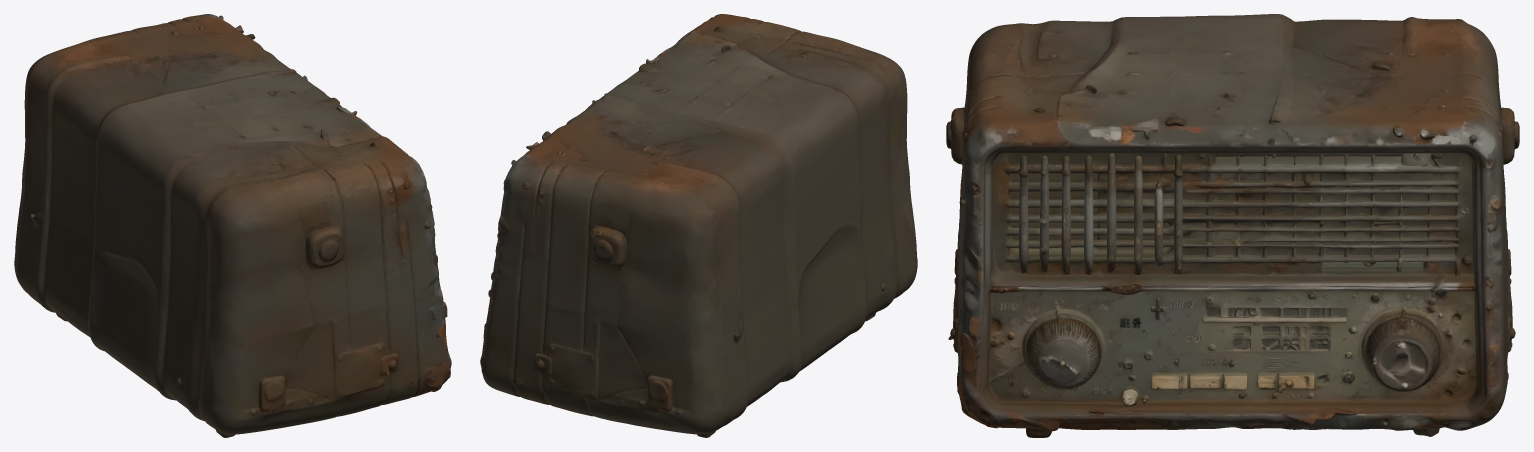
Rendered from radio.glb.
The picture shows the model from 3 angles, left to right: view 1: azimuth 30°, elevation 25°; view 2: azimuth 150°, elevation 25°; view 3: azimuth 270°, elevation 25°; orthographic projection. The views are drawn at different scales.
Visible parts, largest first — view 1: tripo_node_65a1ca66-2c2d-4f11-acc5-bb1bcdcd42a3; view 2: tripo_node_65a1ca66-2c2d-4f11-acc5-bb1bcdcd42a3; view 3: tripo_node_65a1ca66-2c2d-4f11-acc5-bb1bcdcd42a3.
Boxes of the visible parts, <box> form: tripo_node_65a1ca66-2c2d-4f11-acc5-bb1bcdcd42a3: <box>14,14,451,437</box>; tripo_node_65a1ca66-2c2d-4f11-acc5-bb1bcdcd42a3: <box>480,14,917,437</box>; tripo_node_65a1ca66-2c2d-4f11-acc5-bb1bcdcd42a3: <box>946,14,1519,437</box>.
Bounding box in the file's own units: 0.5939 × 0.5984 × 0.9823.
Materials: 1 (1 with a texture image).
